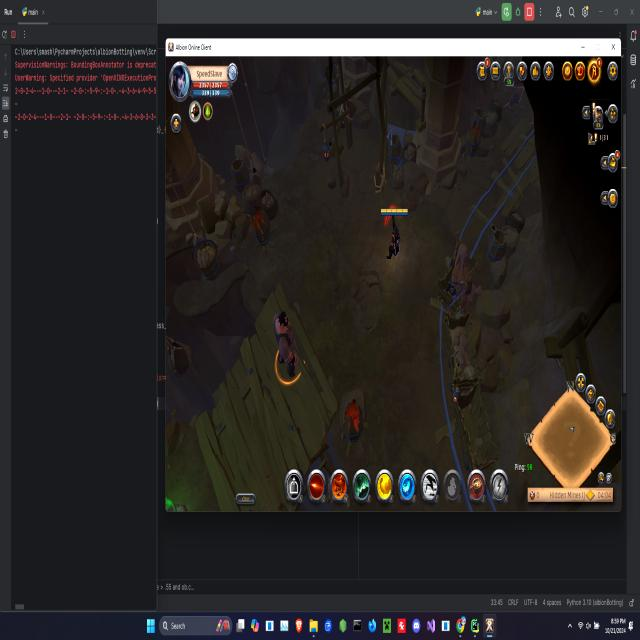ore: (267, 296, 309, 388), (502, 91, 524, 116)
red: (377, 202, 410, 266)
